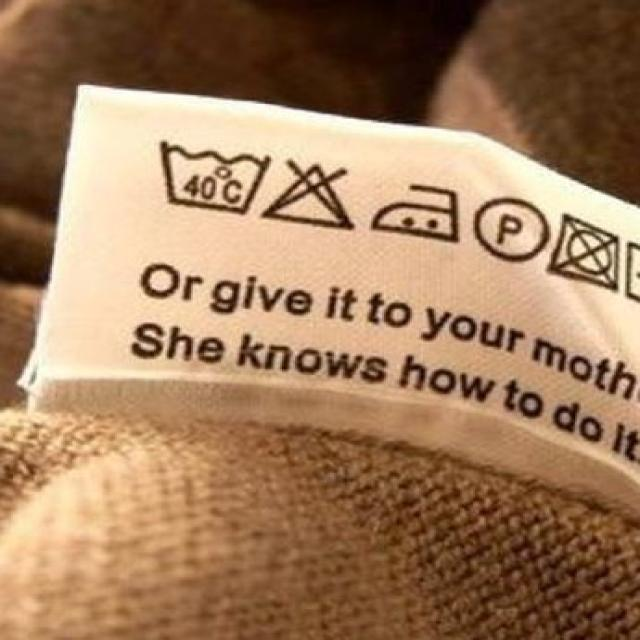40C: (152, 140, 272, 219)
DN_bleach: (262, 160, 362, 229)
DN_tumble_dry: (552, 215, 620, 294)
dry_clean_any_solvent_except_trichloroethylene: (470, 192, 550, 266)
iron_medium: (369, 179, 465, 246)
